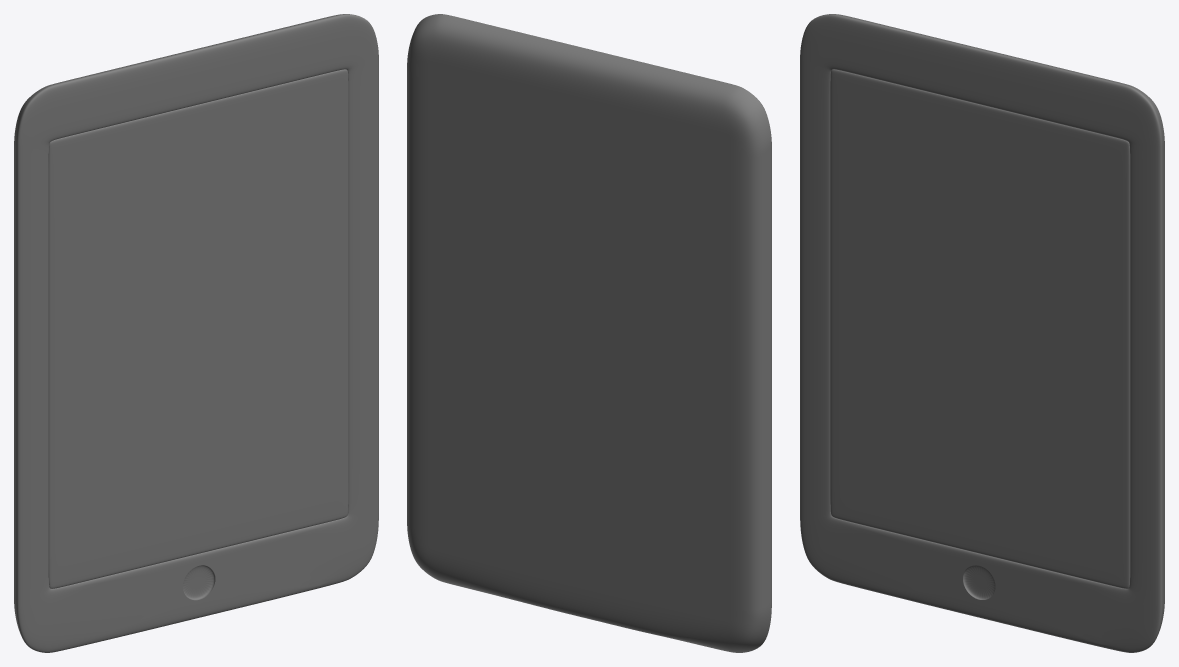
The model's file is tabletWithUV.fbx.
3 renders of one model, left to right at view 1: azimuth 30°, elevation 25°; view 2: azimuth 150°, elevation 25°; view 3: azimuth 330°, elevation 25°, orthographic.
Parts seen in each view (by area): view 1: tablet_1; view 2: tablet_1; view 3: tablet_1.
Boxes of the visible parts, x1,y1,x2,y2 form: tablet_1: (14,14,378,652); tablet_1: (407,14,771,652); tablet_1: (800,14,1164,652).
Bounding box in the file's own units: 114 × 171 × 7.3.
